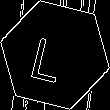L_N: (34, 27, 76, 83)
